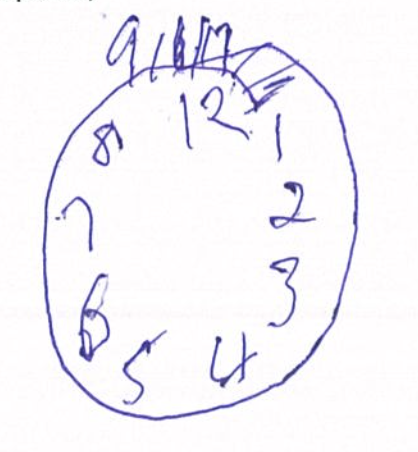1: (271, 112, 291, 164)
10: (147, 16, 188, 81)
12: (175, 87, 250, 154)
2: (267, 179, 316, 229)
3: (267, 254, 304, 328)
4: (208, 329, 258, 389)
5: (118, 329, 168, 406)
6: (77, 272, 117, 360)
7: (57, 192, 102, 255)
8: (91, 120, 123, 166)
9: (105, 13, 144, 90)
contour: (37, 40, 361, 423)
